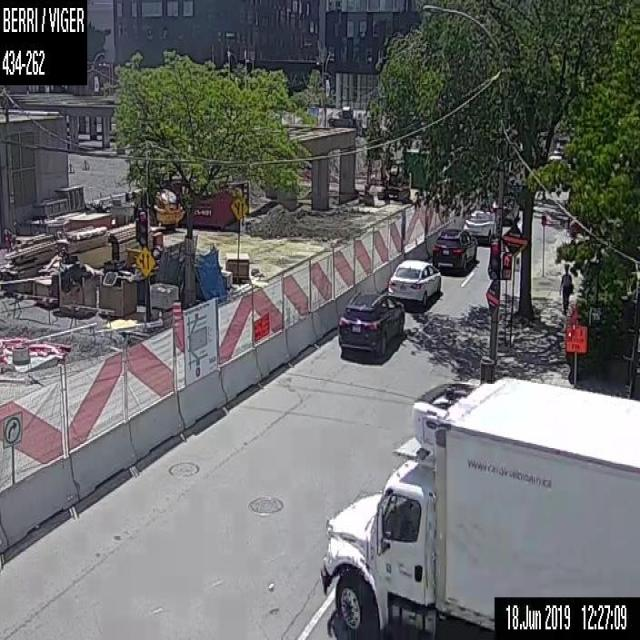construction: (566, 325, 586, 384), (171, 298, 181, 328)
pedestrian: (557, 262, 575, 314)
vehicle: (320, 353, 639, 639), (493, 594, 639, 638), (336, 292, 406, 354), (389, 257, 444, 304), (433, 227, 477, 270), (462, 208, 498, 240)
